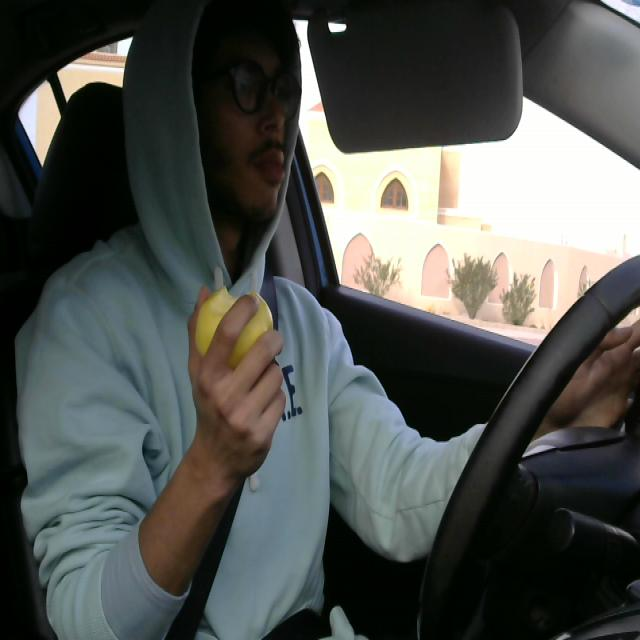eating: (194, 276, 272, 370)
